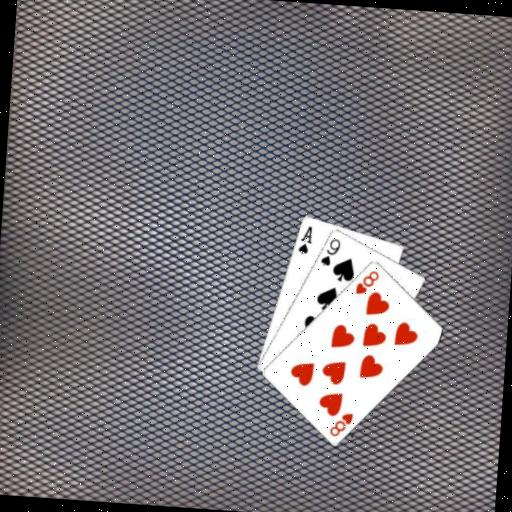8H: (352, 266, 381, 297), (326, 408, 355, 439)
9S: (317, 234, 342, 268)
AS: (295, 222, 315, 256)
